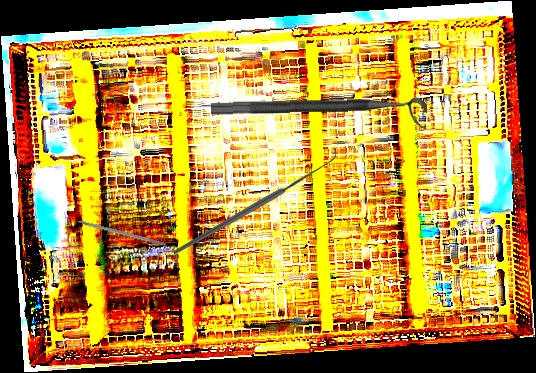Fixation Ring: (210, 97, 428, 134)
Hook Surgical: (174, 148, 336, 255), (60, 213, 167, 248)
